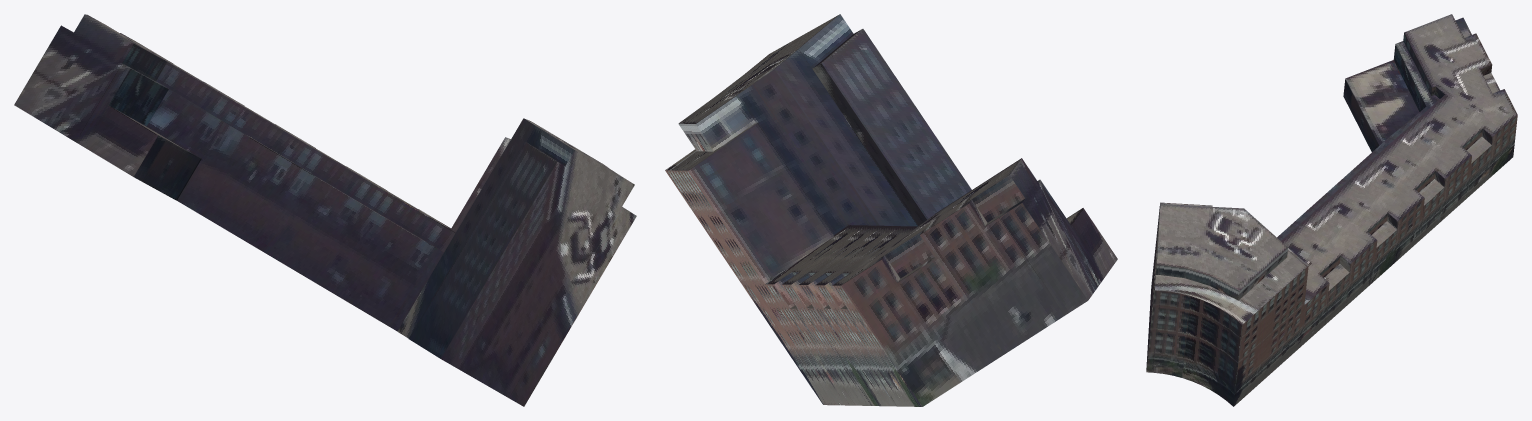
3 views of the same model, side by side, from view 1: azimuth 30°, elevation 25°; view 2: azimuth 150°, elevation 25°; view 3: azimuth 270°, elevation 25° (orthographic). The views are drawn at different scales.
Parts seen in each view (by area): view 1: BAG_0599100000750039 (×2); view 2: BAG_0599100000750039 (×2); view 3: BAG_0599100000750039 (×2).
Boxes of the visible parts, x1,y1,x2,y2 form: BAG_0599100000750039 (×2): [14, 14, 636, 406]; BAG_0599100000750039 (×2): [665, 14, 1117, 406]; BAG_0599100000750039 (×2): [1146, 14, 1517, 406].
Bounding box in the file's own units: 69.26 × 49.34 × 58.96.
3 materials, 2 textured.
